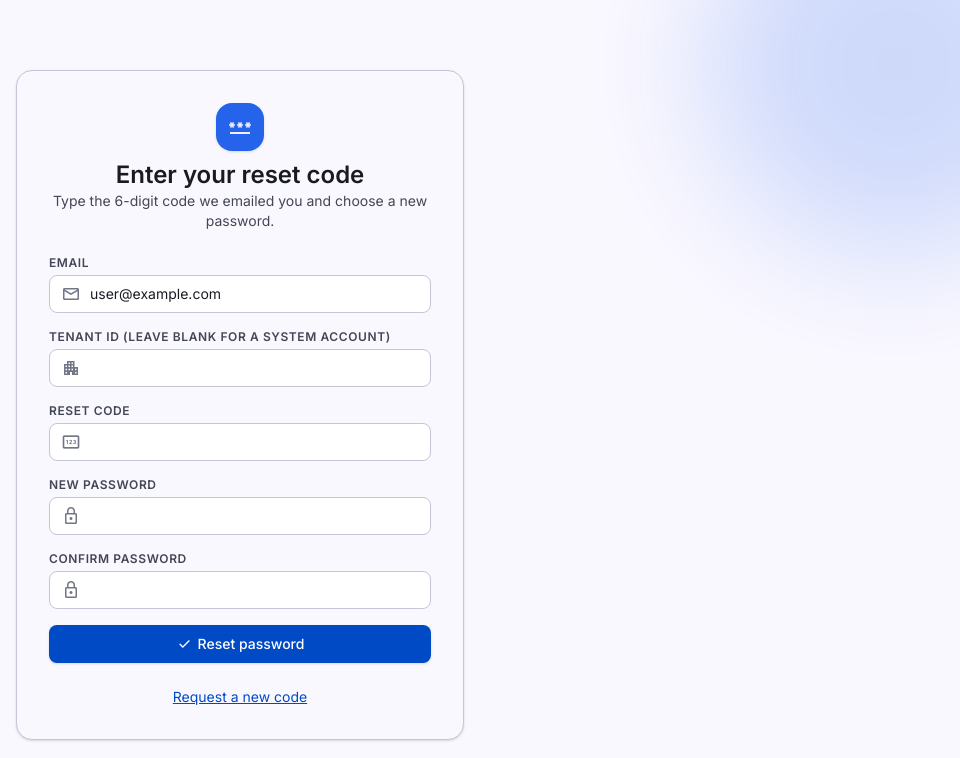
Test: ResetPasswordPage › submits the code and shows the success state
Type "123456" into the field labelled "Reset code" at (240, 442), box x1=49 y1=423 x2=431 y2=461
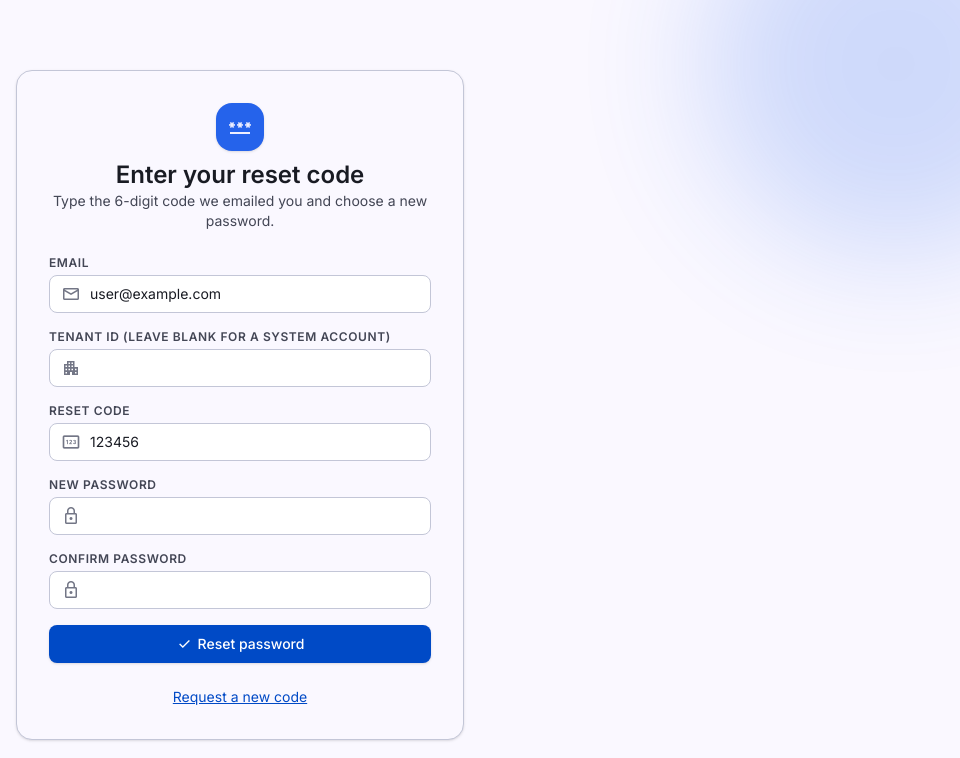
Type "Str0ng!Passphrase" into the password field labelled "New password" at (240, 516), box x1=49 y1=497 x2=431 y2=535
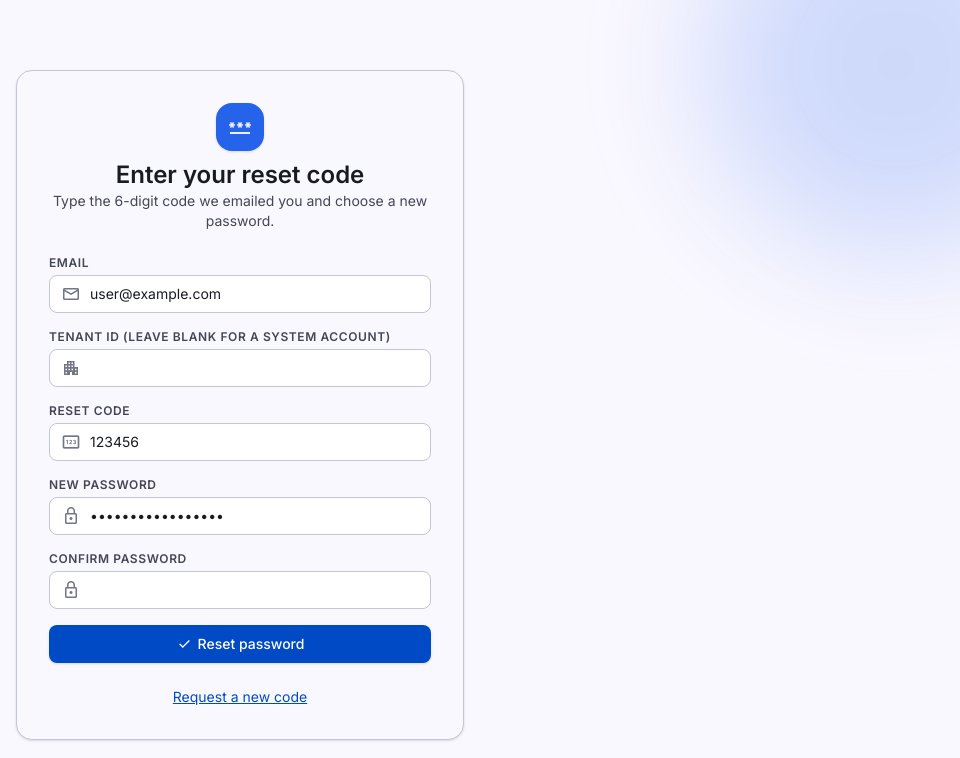
Type "Str0ng!Passphrase" into the password field labelled "Confirm password" at (240, 590), box x1=49 y1=571 x2=431 y2=609
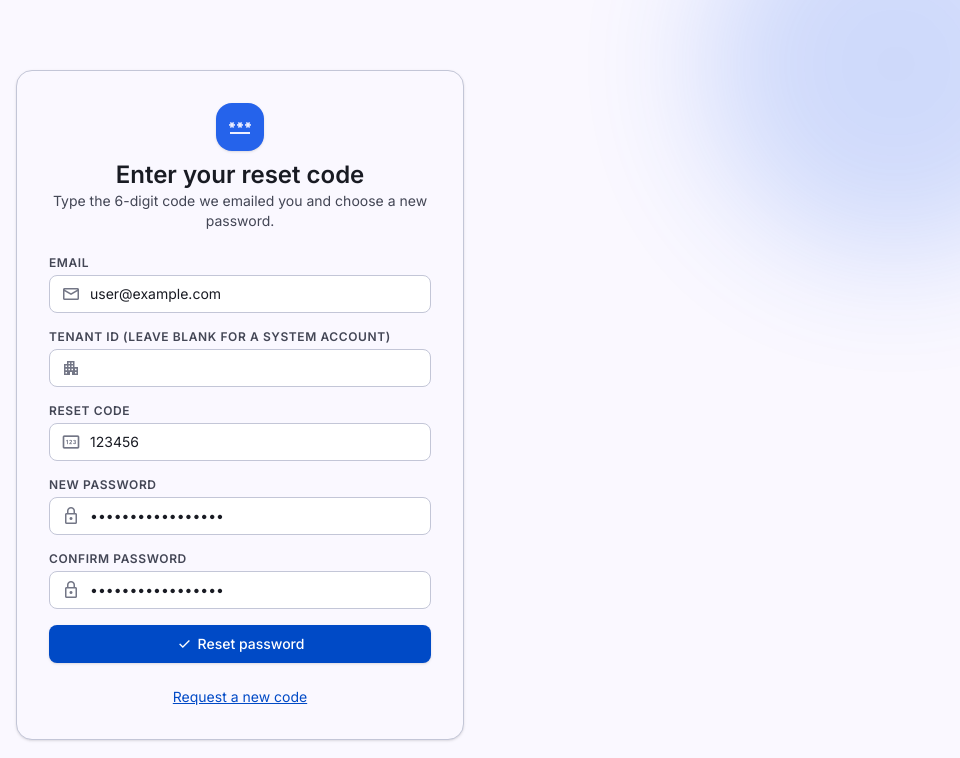
Click the button "Reset password" at (240, 644), box x1=49 y1=625 x2=431 y2=663
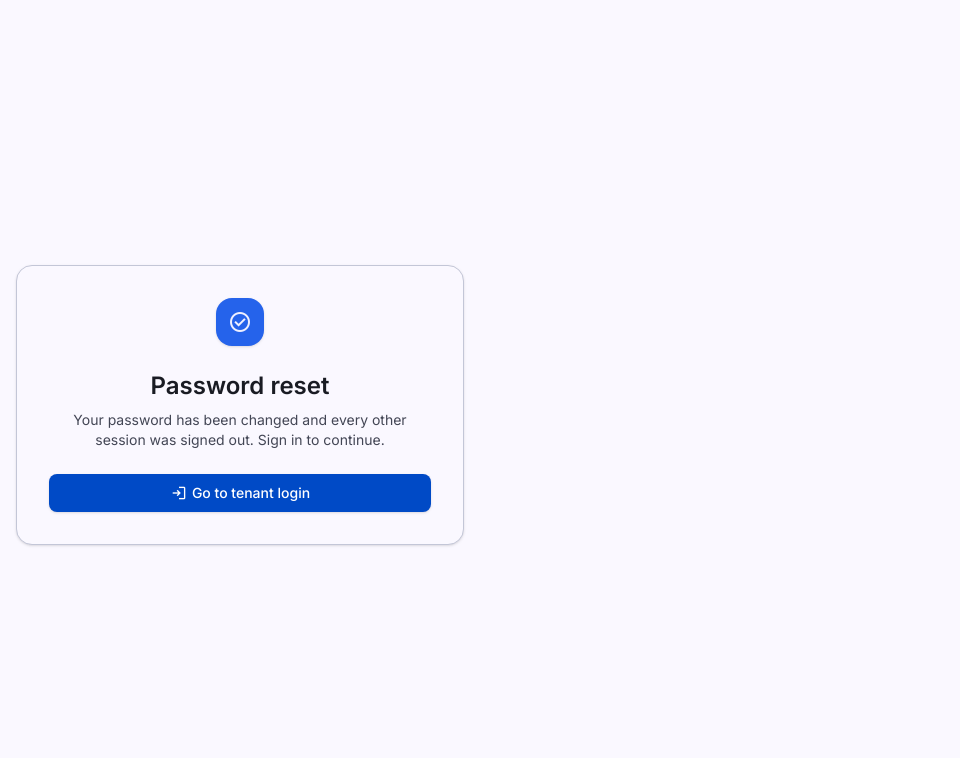
Check: the heading "Password reset" is shown, box x1=150 y1=371 x2=329 y2=400
